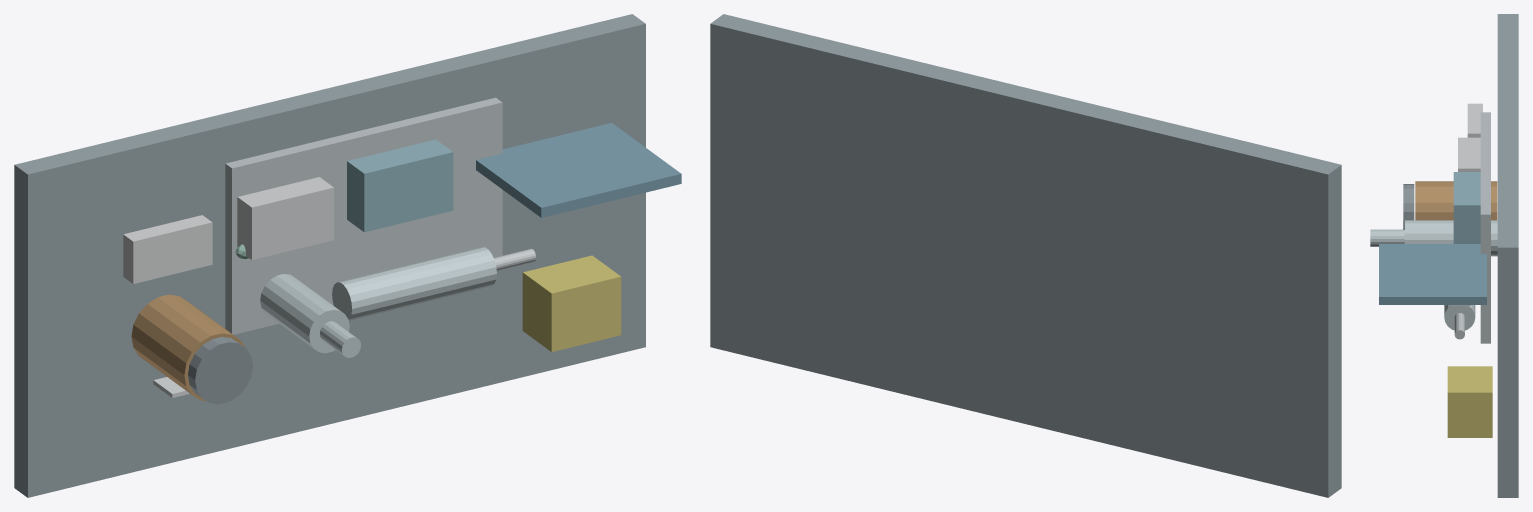
The model's file is medication-bench-medium.glb.
3 renders of one model, left to right at view 1: azimuth 30°, elevation 25°; view 2: azimuth 150°, elevation 25°; view 3: azimuth 270°, elevation 25°, orthographic. The views are drawn at different scales.
Visible parts, largest first — view 1: workbench, tray, case_board, discard_box, glove_box_proxy, training_syringe_barrel, swab_pack_proxy, vial_body, label_card_proxy, ampoule_body, vial_cap, ampoule_neck; view 2: workbench; view 3: workbench, case_board, discard_box, tray, glove_box_proxy, vial_body, ampoule_body, swab_pack_proxy, training_syringe_barrel, ampoule_neck, label_card_proxy, vial_cap (+1 smaller).
Boxes of the visible parts, left/top/right/bottom form: workbench: left=14, top=14, right=645, bottom=497; tray: left=225, top=97, right=502, bottom=334; case_board: left=476, top=123, right=681, bottom=217; discard_box: left=522, top=255, right=621, bottom=351; glove_box_proxy: left=347, top=139, right=453, bottom=232; training_syringe_barrel: left=332, top=247, right=496, bottom=320; swab_pack_proxy: left=237, top=177, right=333, bottom=259; vial_body: left=131, top=294, right=245, bottom=400; label_card_proxy: left=123, top=215, right=212, bottom=283; ampoule_body: left=260, top=274, right=349, bottom=353; vial_cap: left=188, top=337, right=252, bottom=404; ampoule_neck: left=320, top=321, right=360, bottom=357; workbench: left=710, top=14, right=1341, bottom=497; workbench: left=1497, top=14, right=1518, bottom=497; case_board: left=1379, top=244, right=1486, bottom=304; discard_box: left=1447, top=366, right=1492, bottom=437; tray: left=1480, top=112, right=1490, bottom=343; glove_box_proxy: left=1453, top=172, right=1480, bottom=243; vial_body: left=1415, top=181, right=1497, bottom=220; ampoule_body: left=1404, top=220, right=1497, bottom=256; swab_pack_proxy: left=1458, top=137, right=1480, bottom=171; training_syringe_barrel: left=1444, top=305, right=1475, bottom=330; ampoule_neck: left=1370, top=229, right=1404, bottom=246; label_card_proxy: left=1467, top=103, right=1482, bottom=137; vial_cap: left=1403, top=184, right=1414, bottom=229.
Size of the model in its own units: 6.4 by 3.2 by 1.71.
